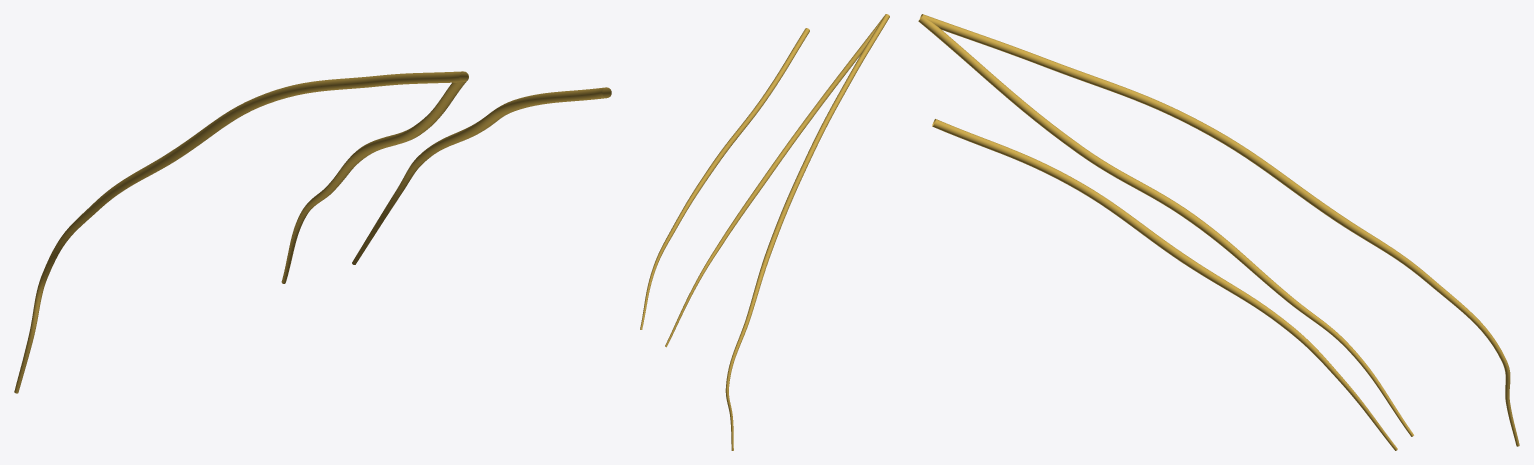
3 renders of one model, left to right at view 1: azimuth 30°, elevation 25°; view 2: azimuth 150°, elevation 25°; view 3: azimuth 270°, elevation 25°, orthographic. The views are drawn at different scales.
Parts seen in each view (by area): view 1: 右侧尺神经指背神经; view 2: 右侧尺神经指背神经; view 3: 右侧尺神经指背神经.
Boxes of the visible parts, x1,y1,x2,y2 form: 右侧尺神经指背神经: [14, 71, 611, 393]; 右侧尺神经指背神经: [640, 14, 889, 450]; 右侧尺神经指背神经: [918, 14, 1519, 450].
Bounding box in the file's own units: 0.043 × 0.0871 × 0.1037.
